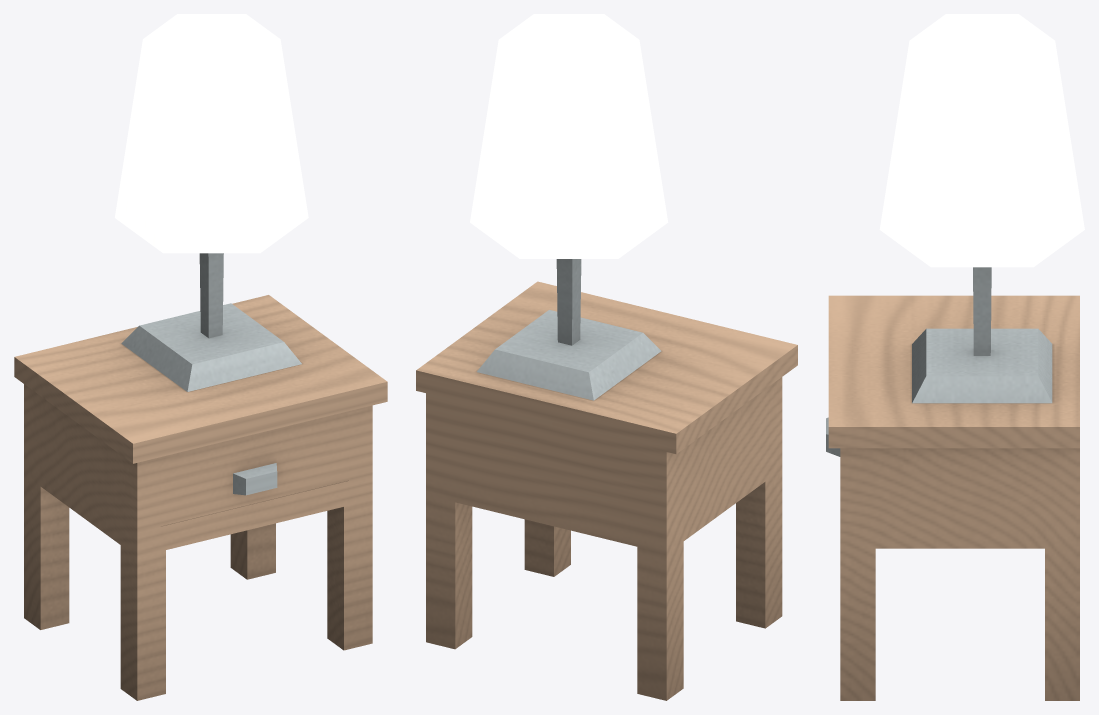
The model's file is nightstand.glb.
3 views of the same model, side by side, from view 1: azimuth 30°, elevation 25°; view 2: azimuth 150°, elevation 25°; view 3: azimuth 270°, elevation 25° (orthographic). The views are drawn at different scales.
Visible parts, largest first — view 1: nightstand; view 2: nightstand; view 3: nightstand.
Part boxes in pixels (x1,y1,x2,y2): nightstand: (14, 14, 387, 700); nightstand: (416, 14, 797, 700); nightstand: (826, 14, 1084, 700).
Bounding box in the file's own units: 0.532 × 1.15 × 0.4429.
4 materials, 4 textured.
